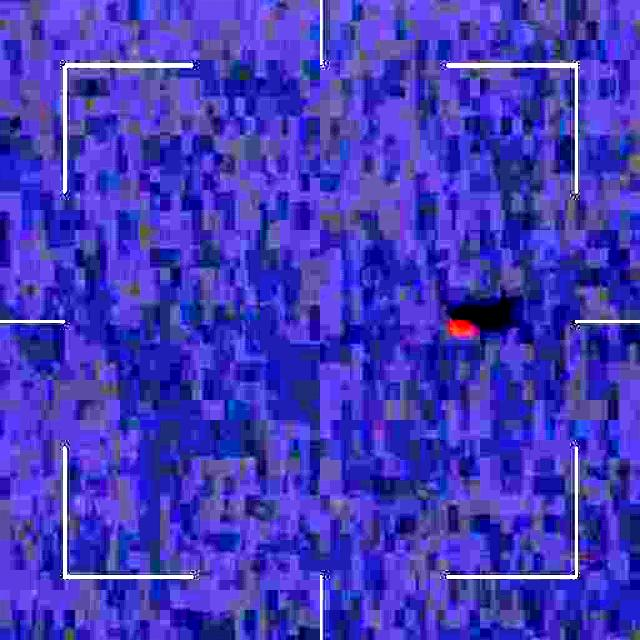bird: (444, 304, 480, 352)
